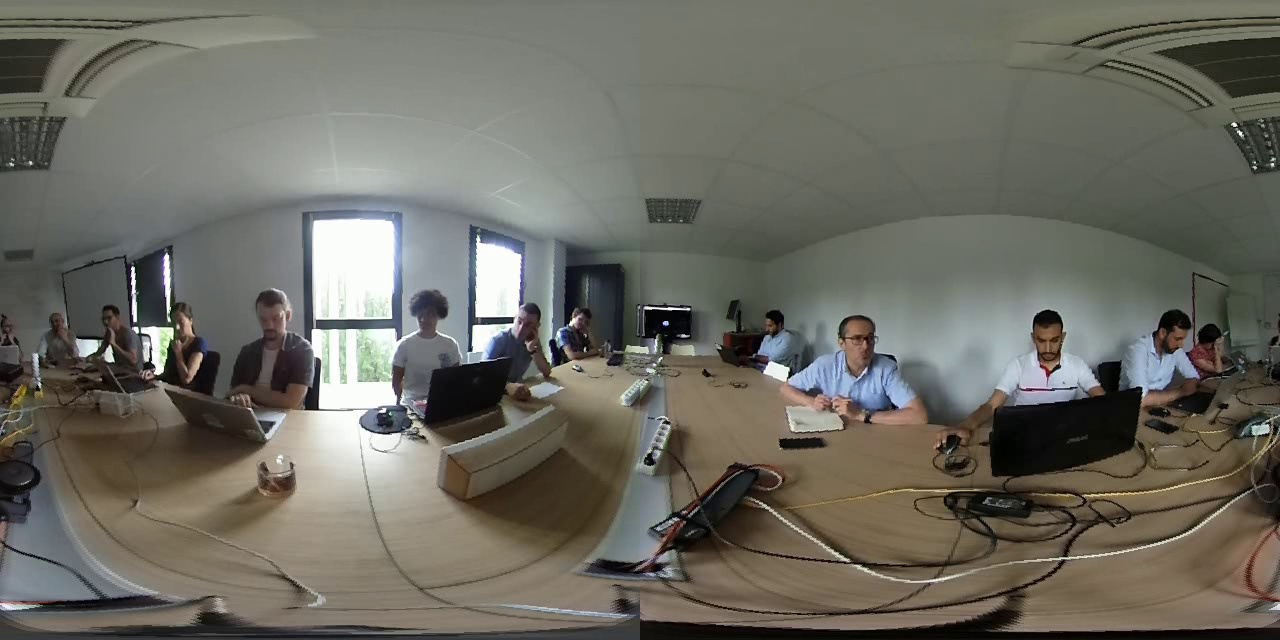person: (808, 302, 922, 415), (228, 280, 321, 414), (998, 297, 1097, 408), (386, 281, 466, 378), (1115, 300, 1192, 398), (156, 292, 220, 388), (481, 289, 545, 379), (551, 288, 612, 370), (89, 292, 146, 370), (1190, 299, 1241, 374), (745, 303, 800, 370), (35, 302, 86, 358), (1, 303, 24, 346)
